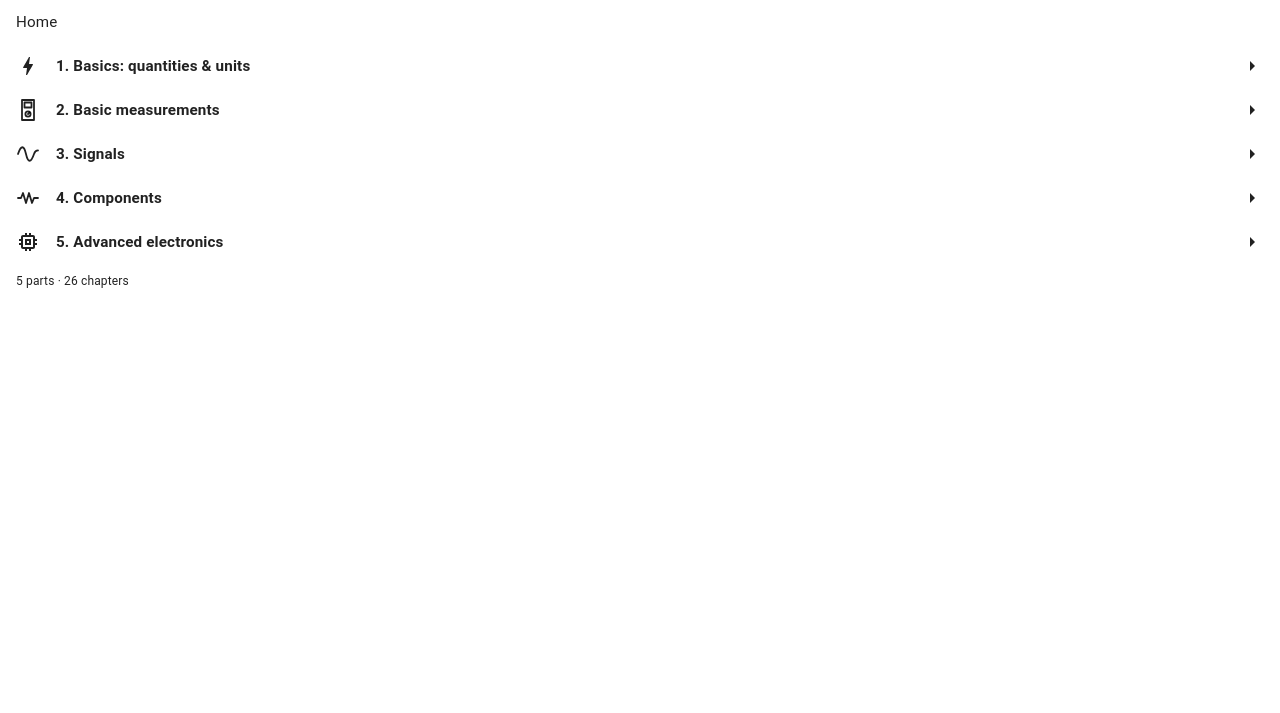
Test case: sidebar tree re-renders only what changed › expand/collapse is instant: children are mounted/unmounted, with no animation at all (a fade also made axe measure half-transparent text)
Step 1. Click the button with test id "toggle-components" → (1252, 198), box x1=1230 y1=176 x2=1274 y2=220
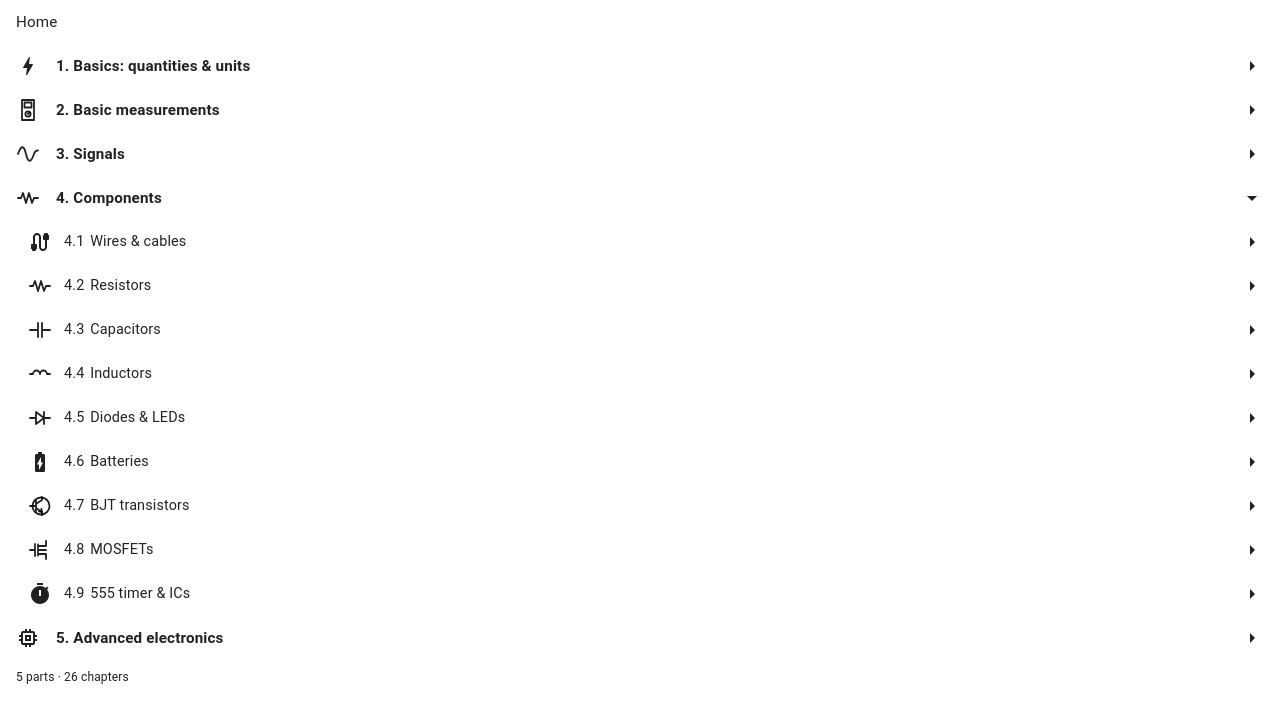
Step 2. Click the button with test id "toggle-resistors" → (1252, 286), box x1=1230 y1=264 x2=1274 y2=308
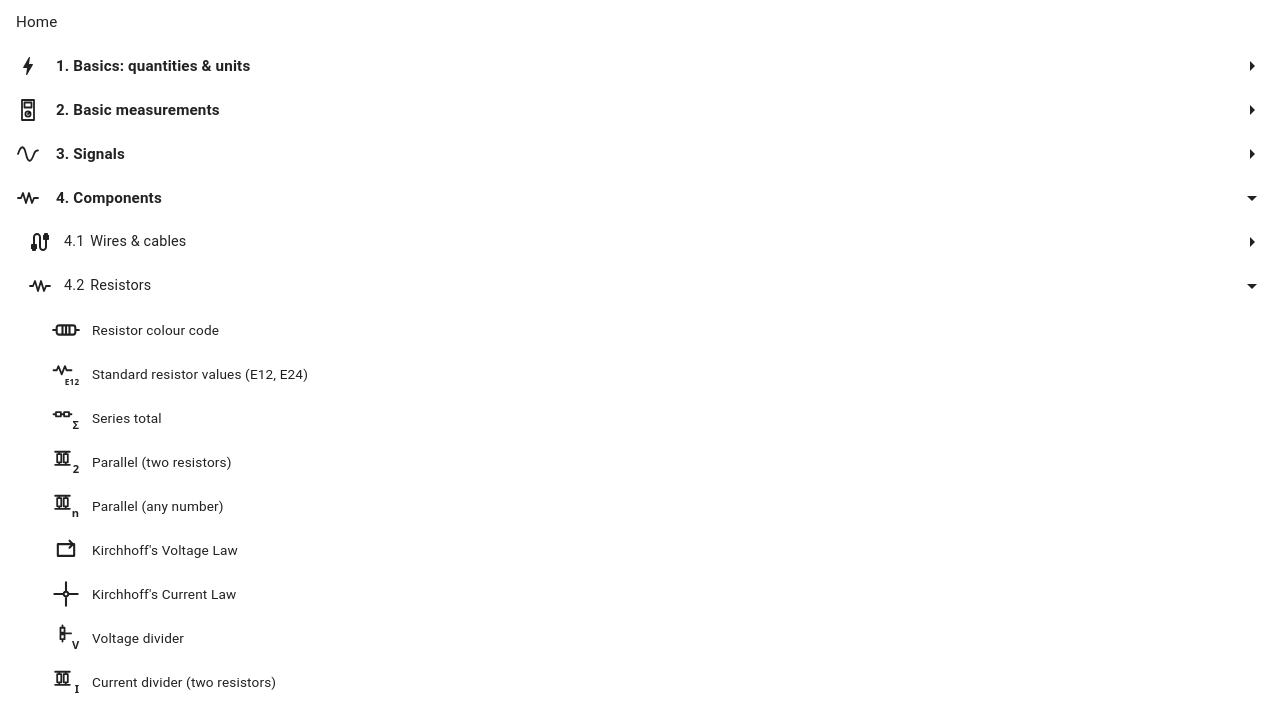
expect the link with test id "nav-topic-r-series" is shown: met, box x1=52 y1=404 x2=162 y2=432
Step 3. Click the button with test id "toggle-resistors" → (1252, 286), box x1=1230 y1=264 x2=1274 y2=308
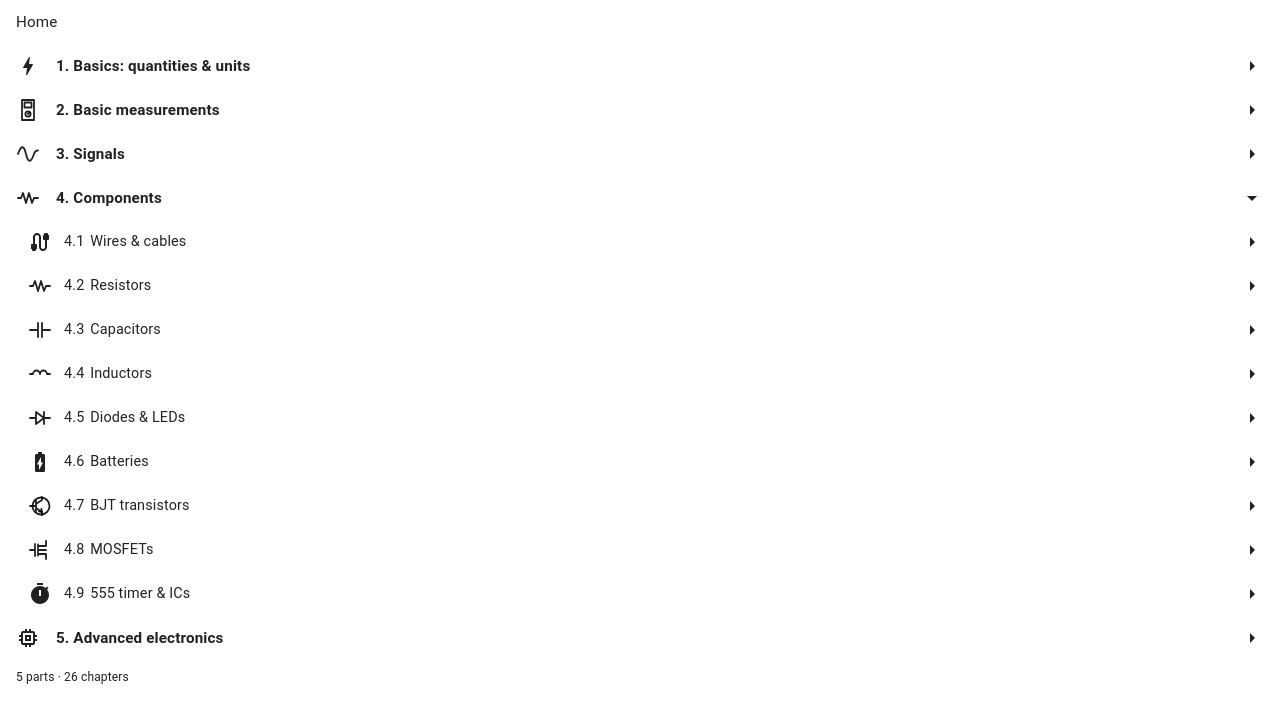
expect the link with test id "nav-topic-r-series" is gone: met
